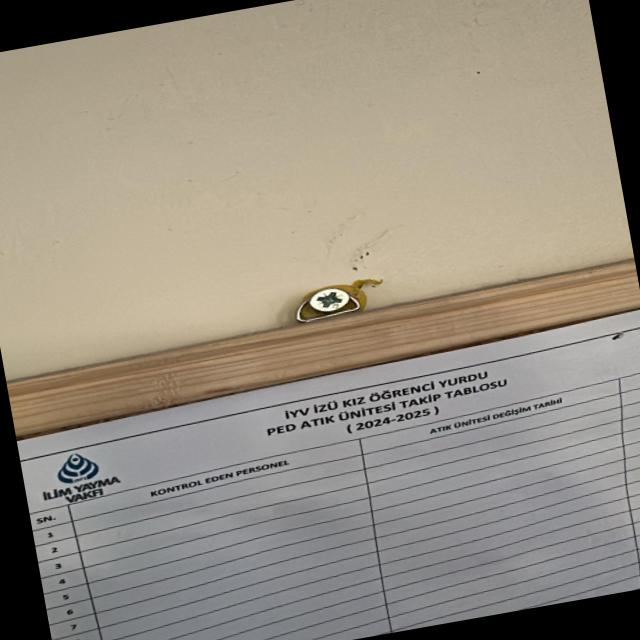Pozidriv: (296, 282, 369, 326)
